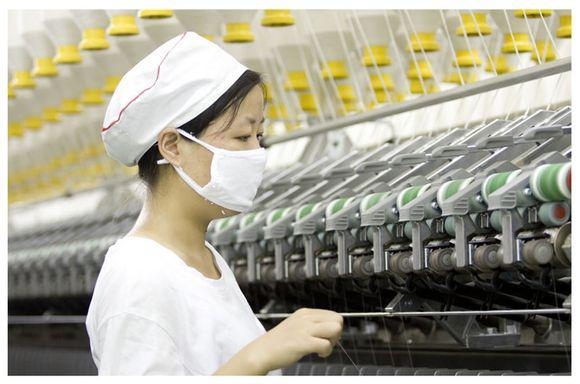OK: (171, 118, 268, 215)
